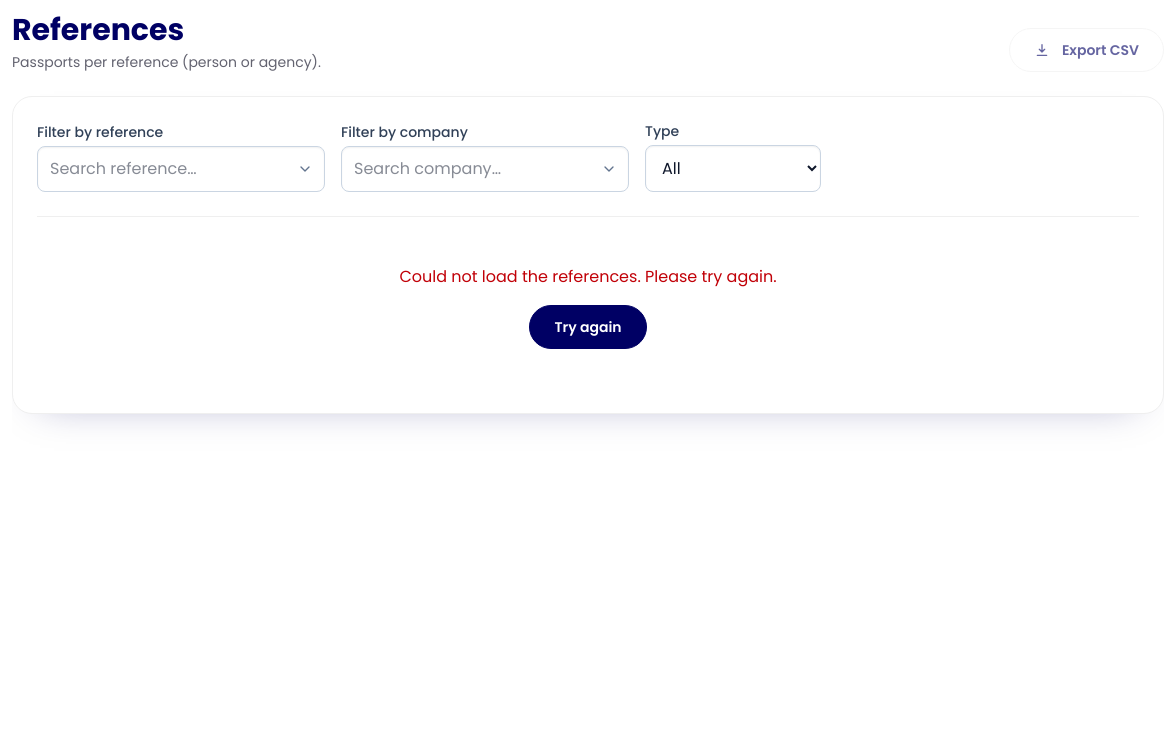
Test case: Reference report › shows an error with a retry button
Expected: the message "Could not load the references. Please try again. Try again" is shown, 399,265 -> 776,349
Step 1. Click the button "Try again" → click(588, 327), box 529,305 -> 647,349
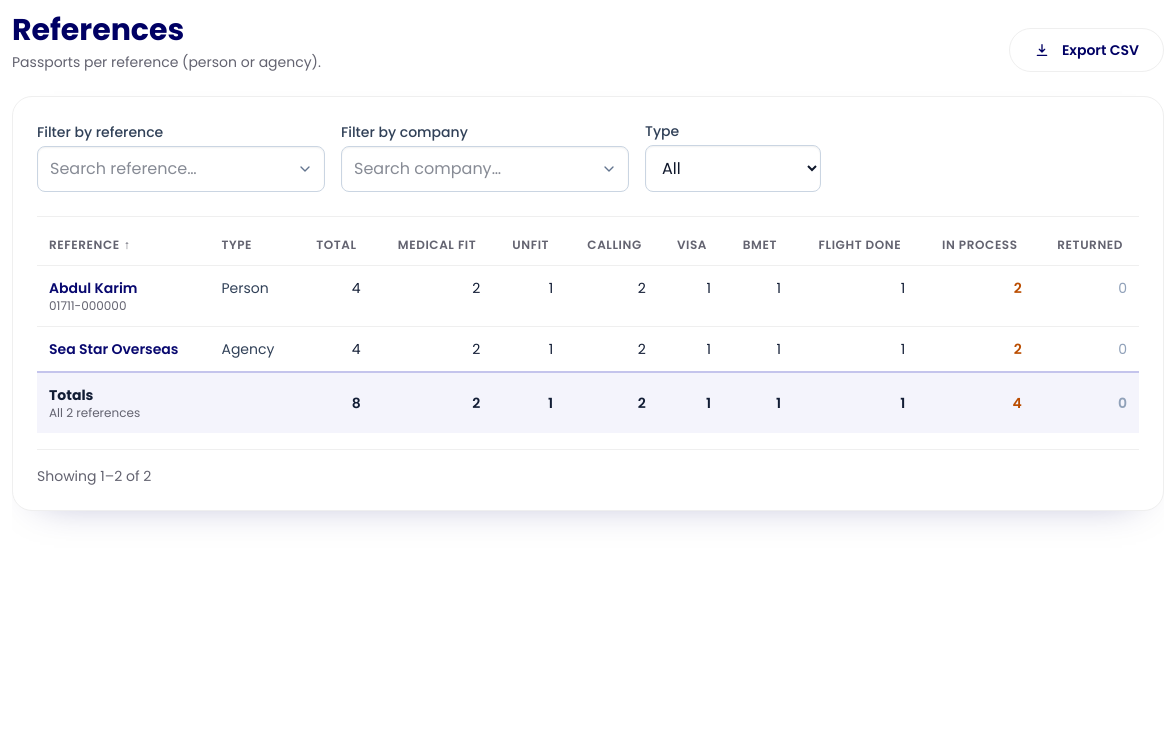
Now the row "Abdul Karim 01711-000000 Person 4 2 1 2 1 1 1 2 0" is shown, box 37,266 -> 1139,326
